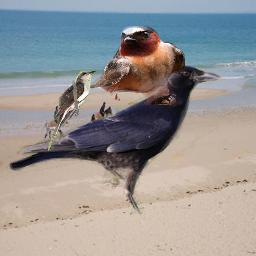Crow: (6, 63, 223, 219)
Cuckoo: (48, 70, 96, 151)
Swallow: (90, 26, 185, 105)
